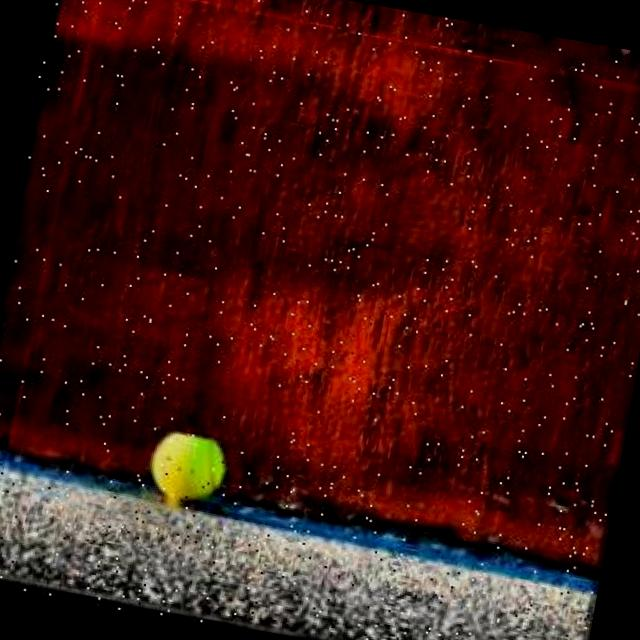tennis-ball: (138, 430, 235, 518)
